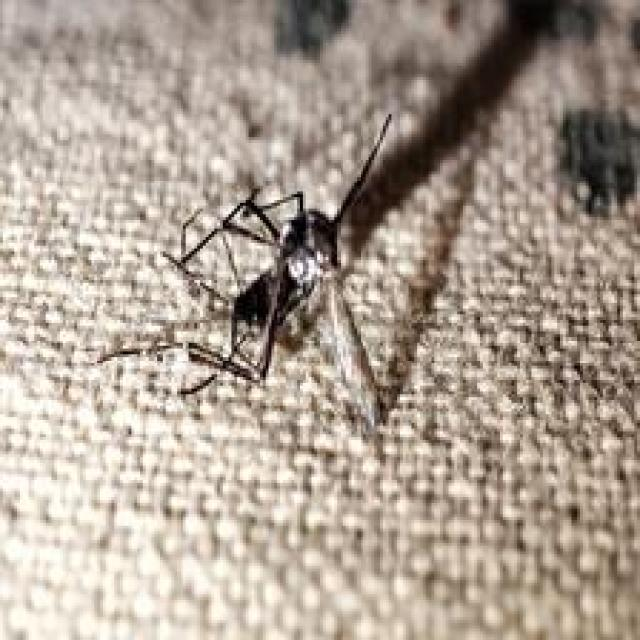Aedes albopictus: (94, 112, 400, 437)
